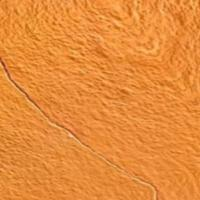crack: (0, 40, 102, 170)
